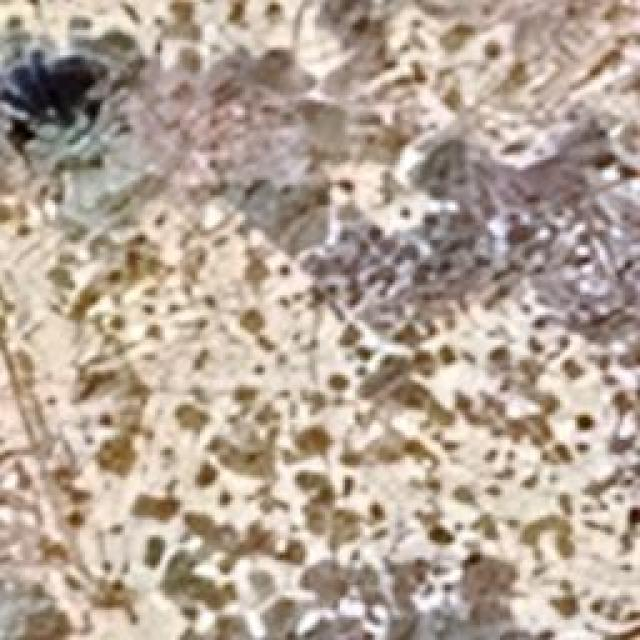PalmTree: (34, 100, 108, 612)
